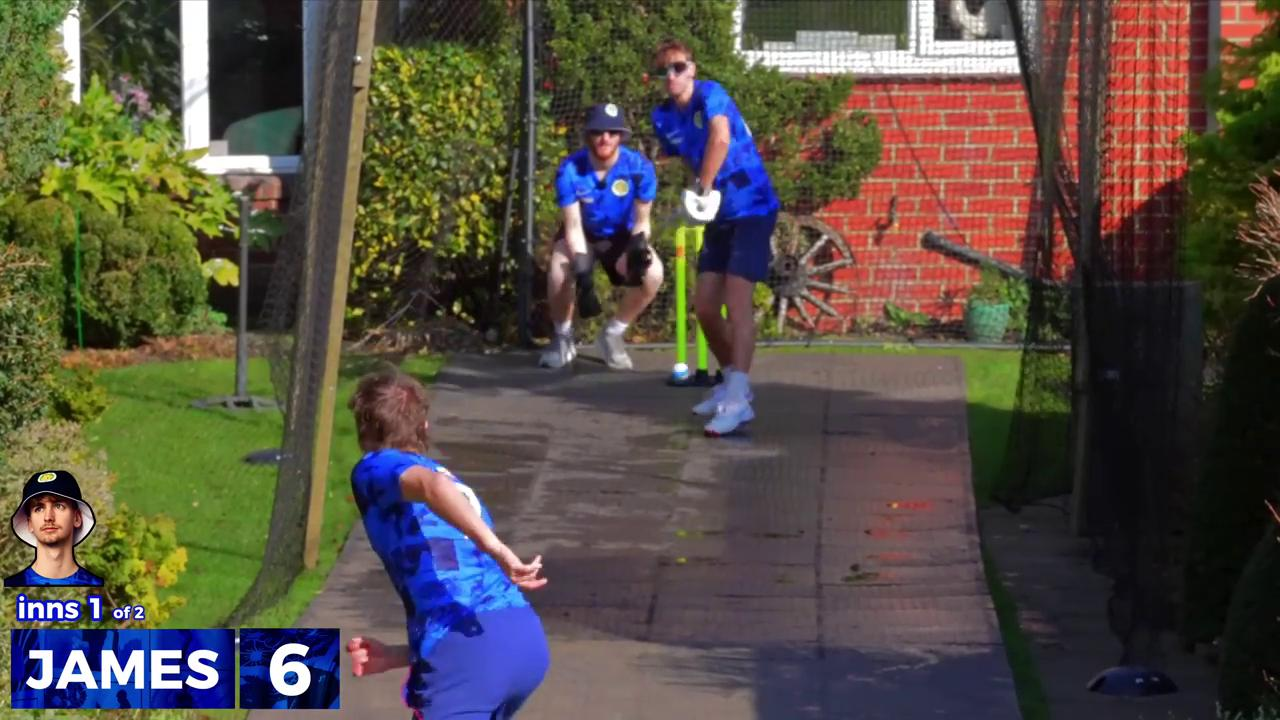ball: (667, 352, 702, 386)
